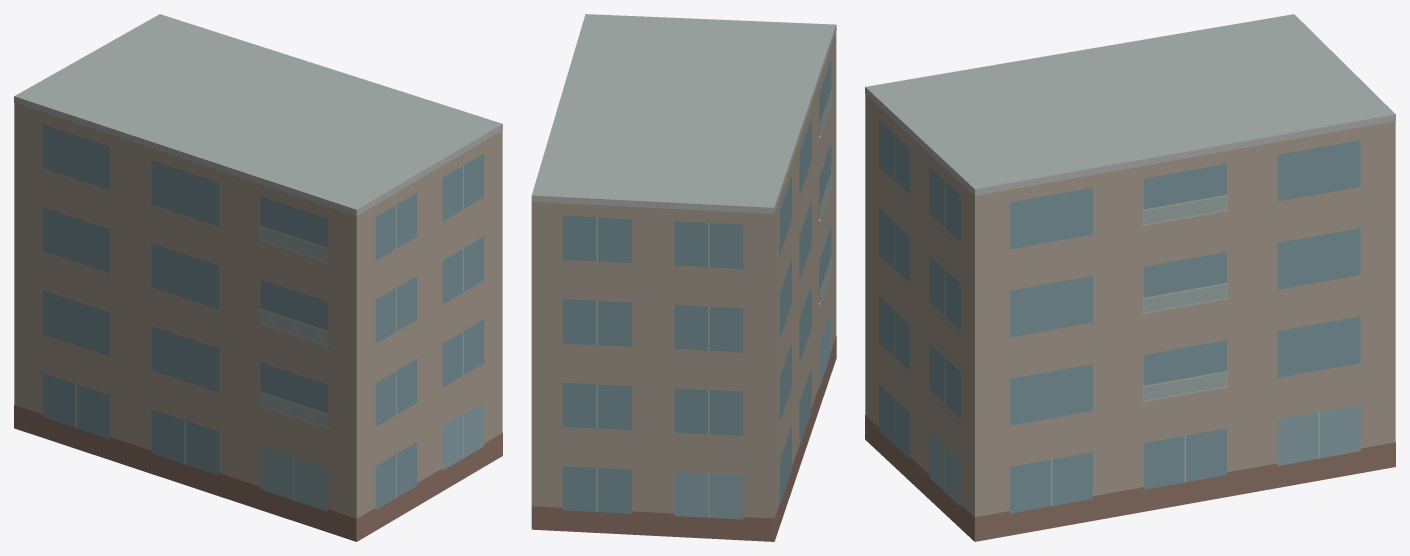
Rendered from survey-upis-32770471.glb.
The picture shows the model from 3 angles, left to right: view 1: azimuth 30°, elevation 25°; view 2: azimuth 150°, elevation 25°; view 3: azimuth 270°, elevation 25°; orthographic projection. The views are drawn at different scales.
Visible parts, largest first — view 1: survey-upis-32770471.tmp; view 2: survey-upis-32770471.tmp; view 3: survey-upis-32770471.tmp.
Boxes of the visible parts, box(x1,y1,x2,y2) form: survey-upis-32770471.tmp: box(14, 14, 502, 541); survey-upis-32770471.tmp: box(531, 14, 836, 541); survey-upis-32770471.tmp: box(865, 14, 1395, 541).
Size of the model in its own units: 13.76 by 12.9 by 17.6.
